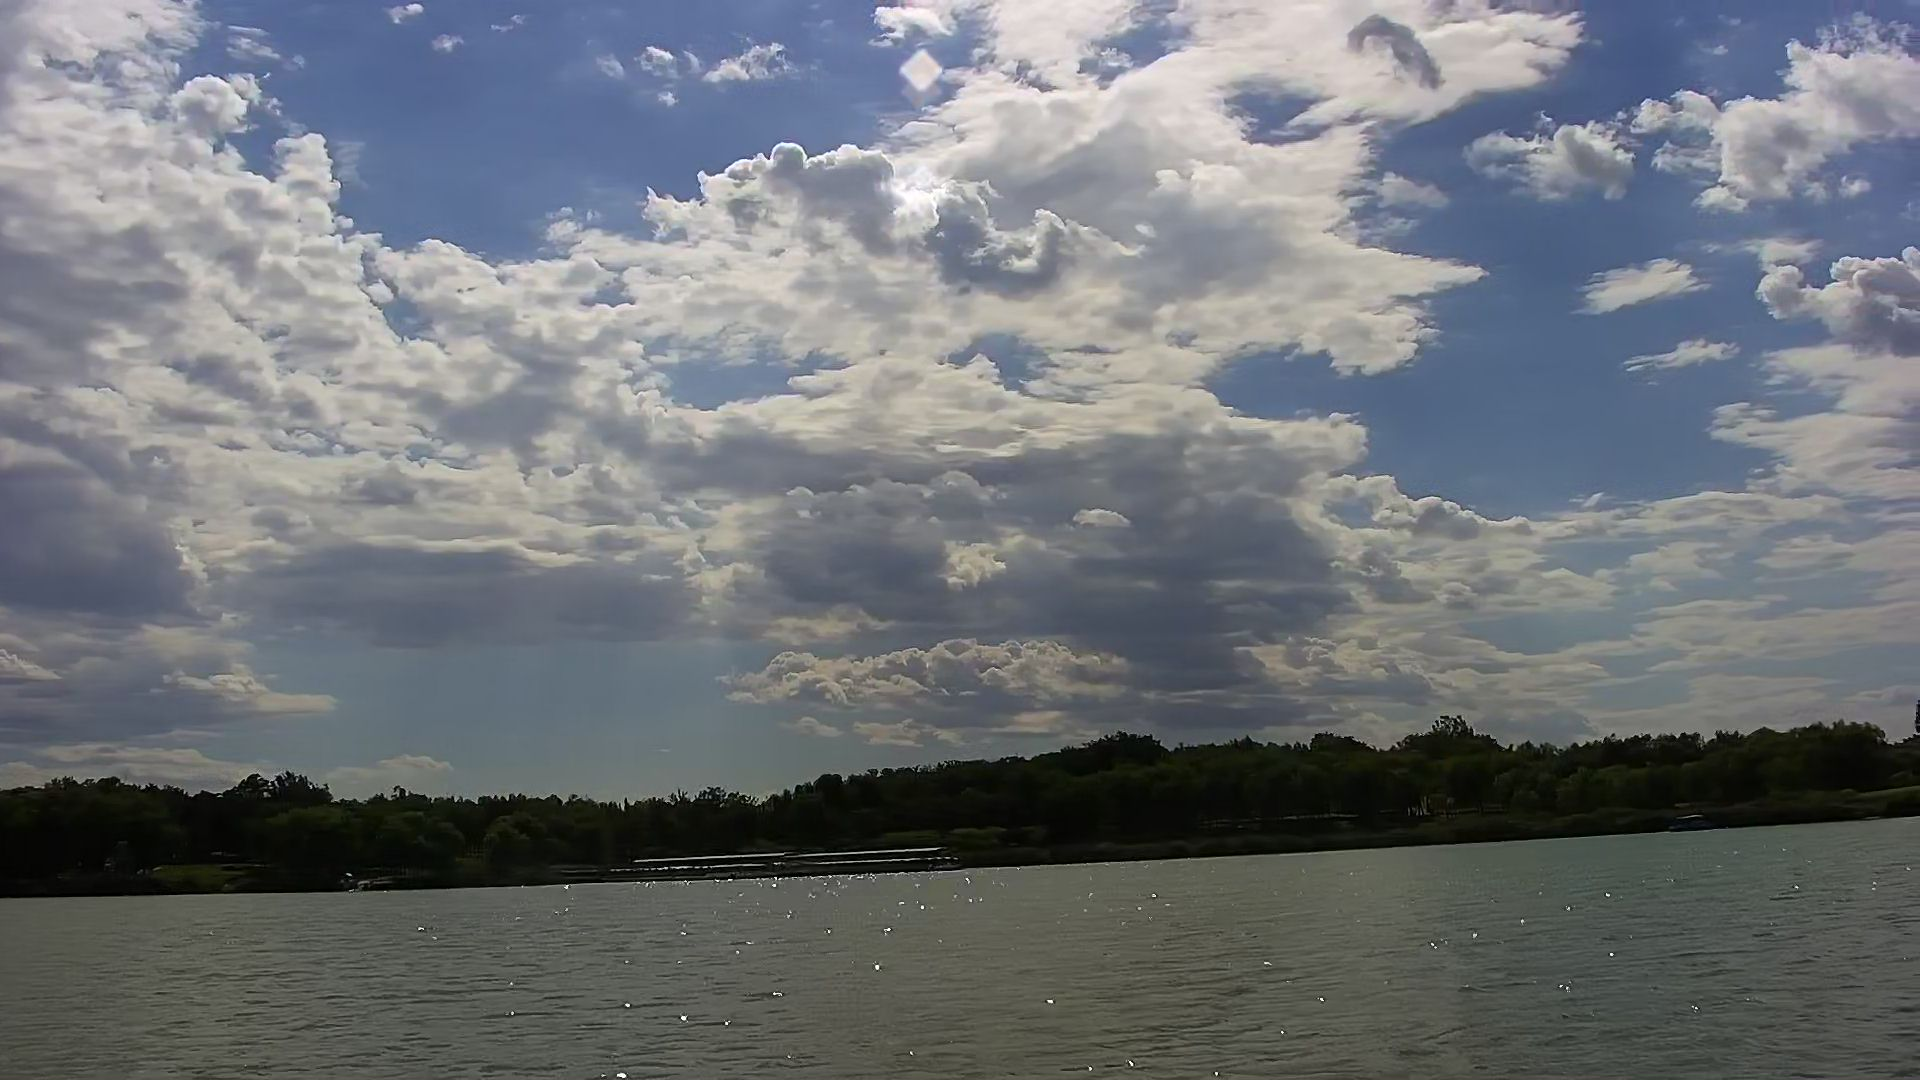harbor: (625, 836, 960, 884)
